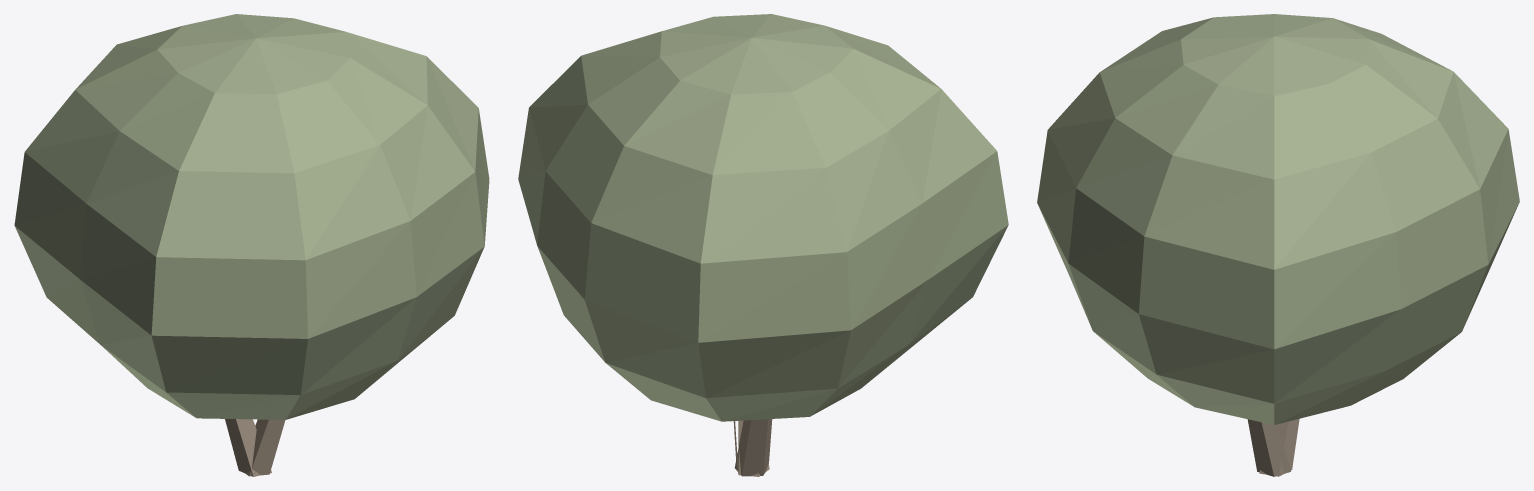
The model's file is olivo_0_L1.glb.
The picture shows the model from 3 angles, left to right: view 1: azimuth 30°, elevation 25°; view 2: azimuth 150°, elevation 25°; view 3: azimuth 270°, elevation 25°; orthographic projection.
Visible parts, largest first — view 1: copa, tronco; view 2: copa, tronco; view 3: copa, tronco.
Part boxes in pixels (x1,y1,x2,y2): copa: [14, 14, 489, 419]; tronco: [225, 419, 285, 476]; copa: [518, 14, 1008, 421]; tronco: [733, 419, 772, 476]; copa: [1037, 14, 1519, 424]; tronco: [1247, 419, 1299, 476].
Bounding box in the file's own units: 4.01 × 4 × 4.05.
